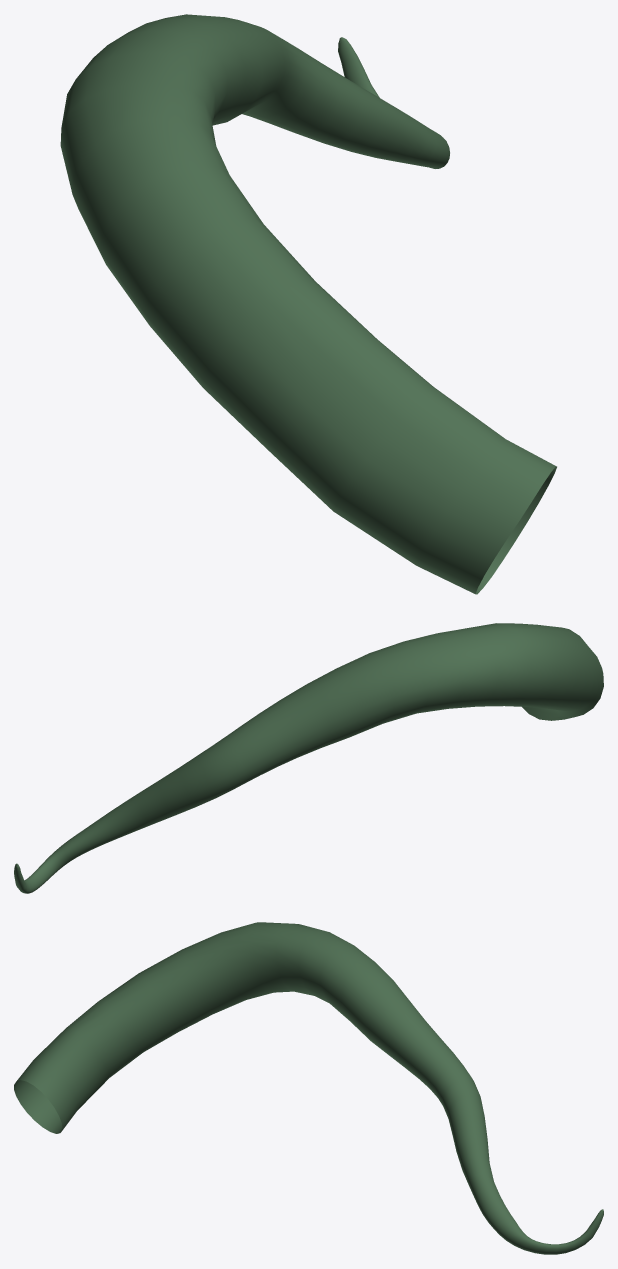
The model's file is Raiz 1.fbx.
3 views of the same model, one above another, from view 1: azimuth 30°, elevation 25°; view 2: azimuth 150°, elevation 25°; view 3: azimuth 270°, elevation 25° (orthographic). The views are drawn at different scales.
Parts seen in each view (by area): view 1: Raiz_1; view 2: Raiz_1; view 3: Raiz_1.
Boxes of the visible parts, <box> form: Raiz_1: <box>60,14,556,594</box>; Raiz_1: <box>14,623,603,893</box>; Raiz_1: <box>14,922,603,1254</box>.
Bounding box in the file's own units: 7.44 × 4.47 × 12.01.
